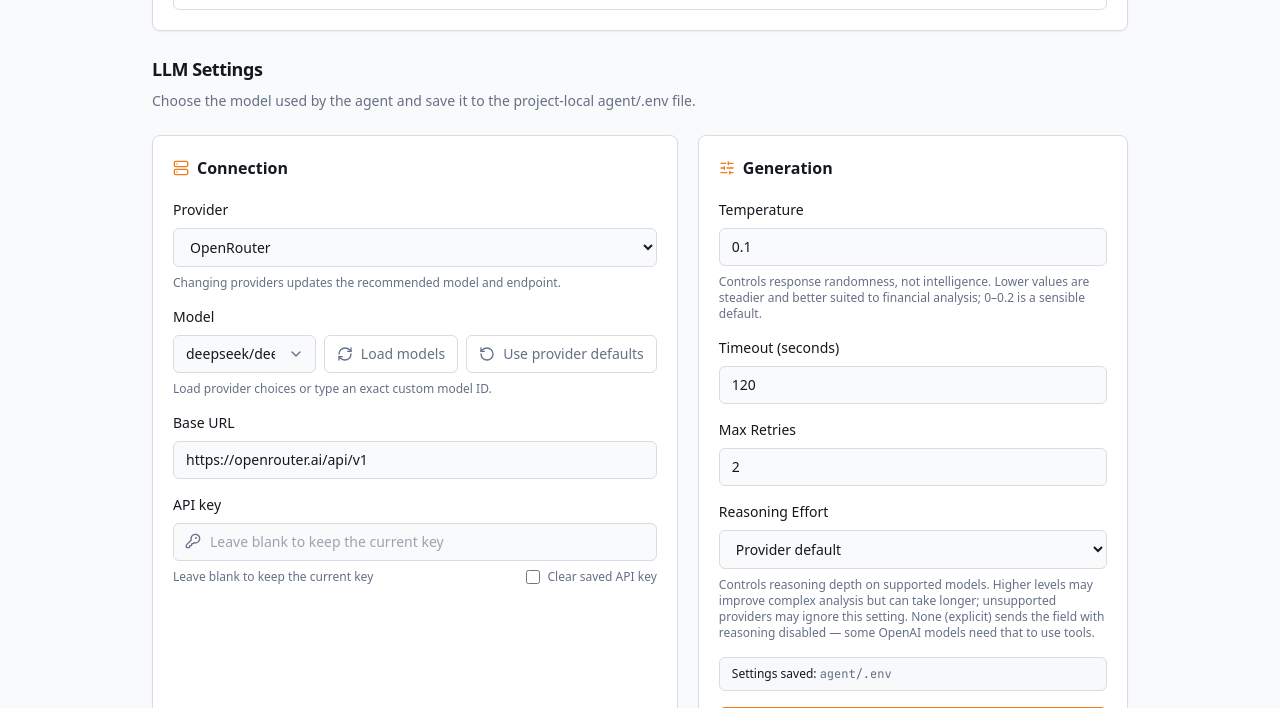
Test: Settings IM channels panel › translates stable model-discovery warning codes in the frontend
The width and height of the screenshot is (1280, 708).
(page scrolled)
Expected: the heading "LLM Settings" is shown, top-left (152, 57), bottom-right (262, 81)
Step 1. Click the button "Load models" → coordinates (391, 354), box top-left (324, 335), bottom-right (458, 373)
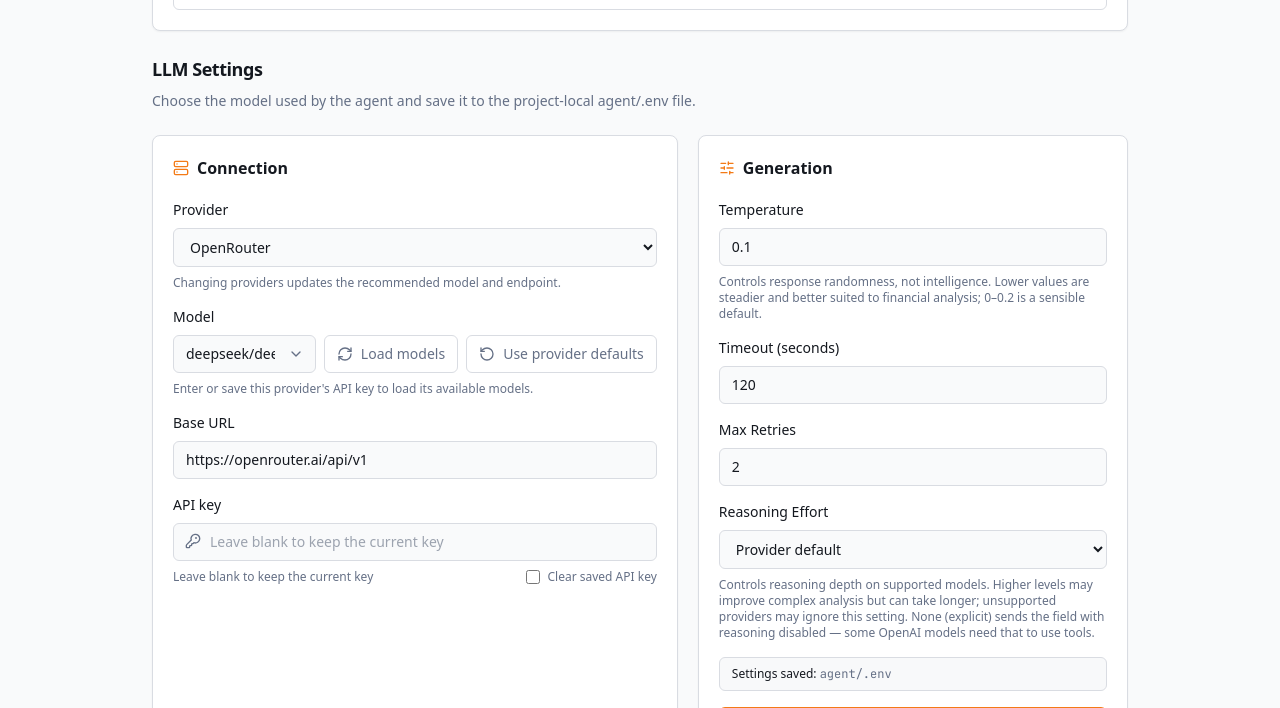
Result: the text "Enter or save this provider's API key to load its available models." is shown at top-left (173, 380), bottom-right (533, 397)
